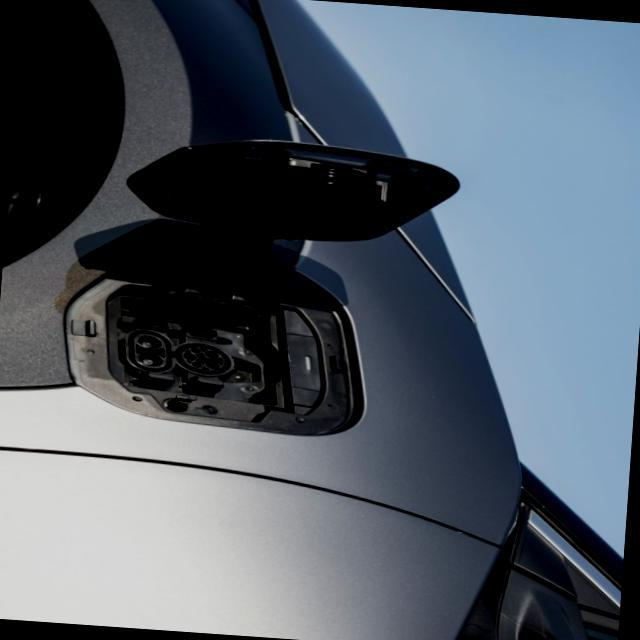CCS1: (106, 325, 252, 396)
